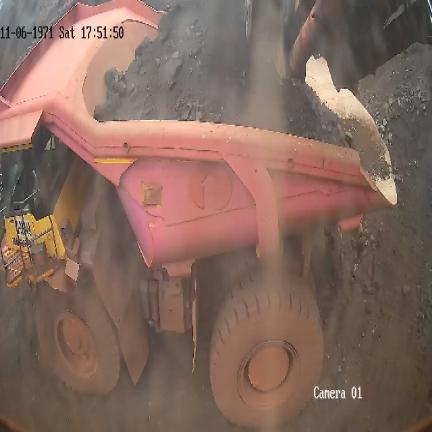pile: (98, 0, 347, 142), (315, 52, 432, 345)
